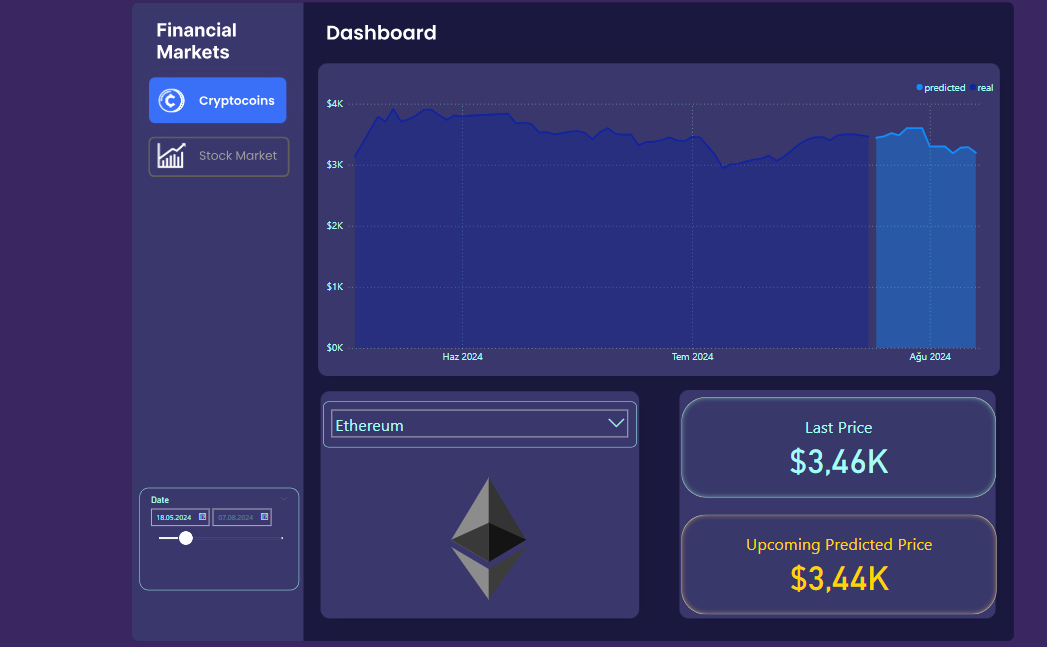

The dashboard page shown, as its layout file describes it:
{"tool":"powerbi","page":{"name":"cryptocoins","canvas":[1920,1080],"ordinal":1},"visuals":[{"type":"slicer","fields":{"Values":["ft_coin_price_t.datetime"]},"box":[250,808.3,261.7,168.3],"z":0},{"type":"stackedAreaChart","fields":{"Y":["Avg(Query2.price)"],"Series":["Query2.type"],"Category":["ft_coin_price_t.datetime.Variation.Date Hierarchy.Year"]},"box":[551.7,131.7,1108.3,485],"z":1000},{"type":"slicer","fields":{"Values":["dim_coin_t.name"]},"box":[551.7,668.3,513.3,75],"z":2000},{"type":"tableEx","fields":{"Values":["dim_coin_t.icon_url"]},"box":[561.7,765,503.3,258.3],"z":3000},{"type":"cardVisual","fields":{"Data":["Avg(Query2.price)"]},"box":[1133.3,655,526.7,175],"z":4000},{"type":"cardVisual","fields":{"Data":["Avg(Query2.price)"]},"box":[1132.9,848.6,527.1,174.3],"z":5000},{"type":"actionButton","box":[265,233.3,231.7,66.7],"z":6000}]}

Visuals, with their boxes on the page's 1920x1080 design canvas (x1, y1, x2, y2). These are canvas units, not pixel positions in the 1047x647 screenshot, which may show the page scaled, cropped or inside an application window:
slicer - ft_coin_price_t.datetime: x1=250, y1=808, x2=512, y2=977
stackedAreaChart - Avg(Query2.price) x Query2.type: x1=552, y1=132, x2=1660, y2=617
slicer - dim_coin_t.name: x1=552, y1=668, x2=1065, y2=743
tableEx - dim_coin_t.icon_url: x1=562, y1=765, x2=1065, y2=1023
cardVisual - Avg(Query2.price): x1=1133, y1=655, x2=1660, y2=830
cardVisual - Avg(Query2.price): x1=1133, y1=849, x2=1660, y2=1023
actionButton: x1=265, y1=233, x2=497, y2=300
